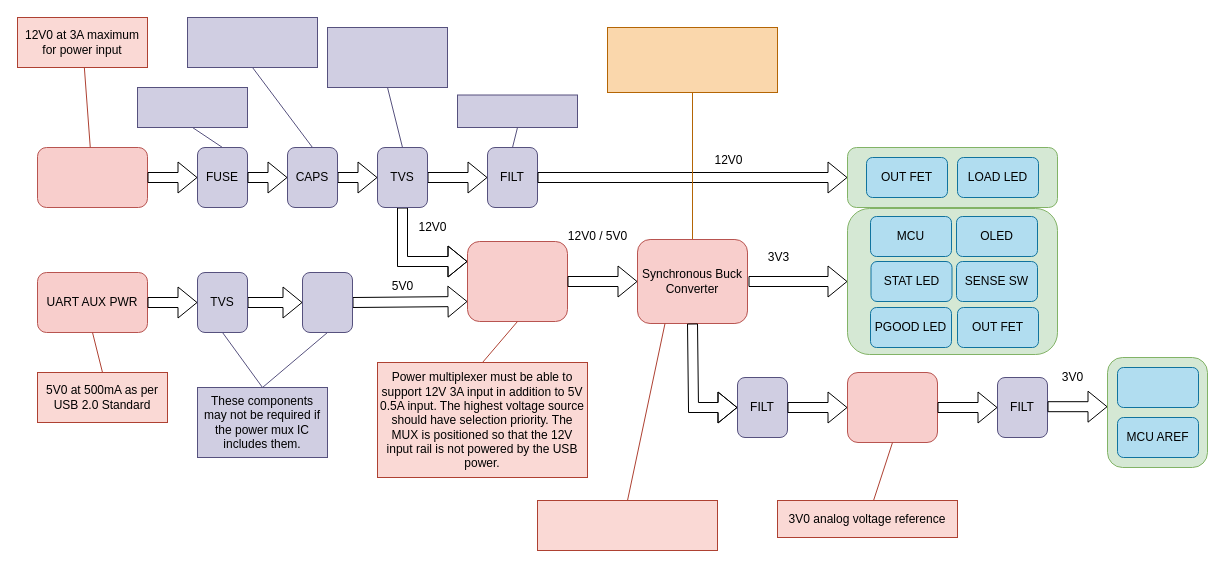
The diagram is 1225 pixels wide and 568 high, and some of its shapes have lost their labels. The centre of each missing label's shape, as x and y in pixels:
3V3 at Maximum current of 500 mA: the point at 627,525
Decoupling capacitors for surge delivery: the point at 252,42
ESD Protection on metal-on-metal connectors: the point at 387,57
Input power filter: the point at 517,111
Isolator: the point at 327,302
LDO Linear Regulator: the point at 892,407
NOTE: High noise make sure this is spatially isolated from analog section: the point at 692,59
OPAMPS: the point at 1157,387
Power MUX: the point at 517,281
PWR INPUT (12V @ 3A): the point at 92,177
Rate for maximum current of 3A: the point at 192,107
